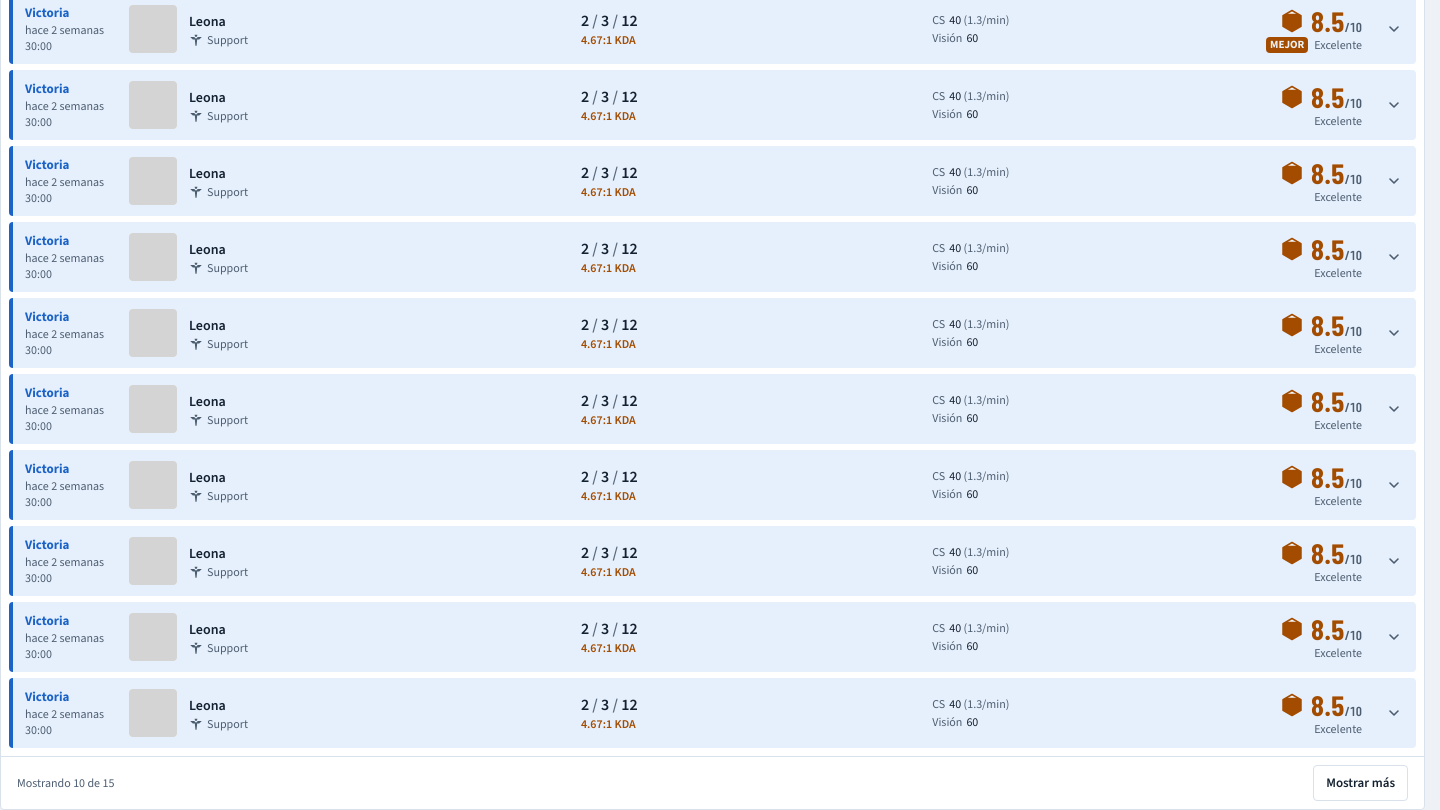
Scenario: MatchList › enseña 10 partidas y carga 10 más con Mostrar más
(page scrolled)
expect the text "Mostrando 10 de 15" is shown: met, box [17,775,114,791]
Click the button "Mostrar más": {"x": 1361, "y": 783} [1313,765,1408,801]
(page scrolled)
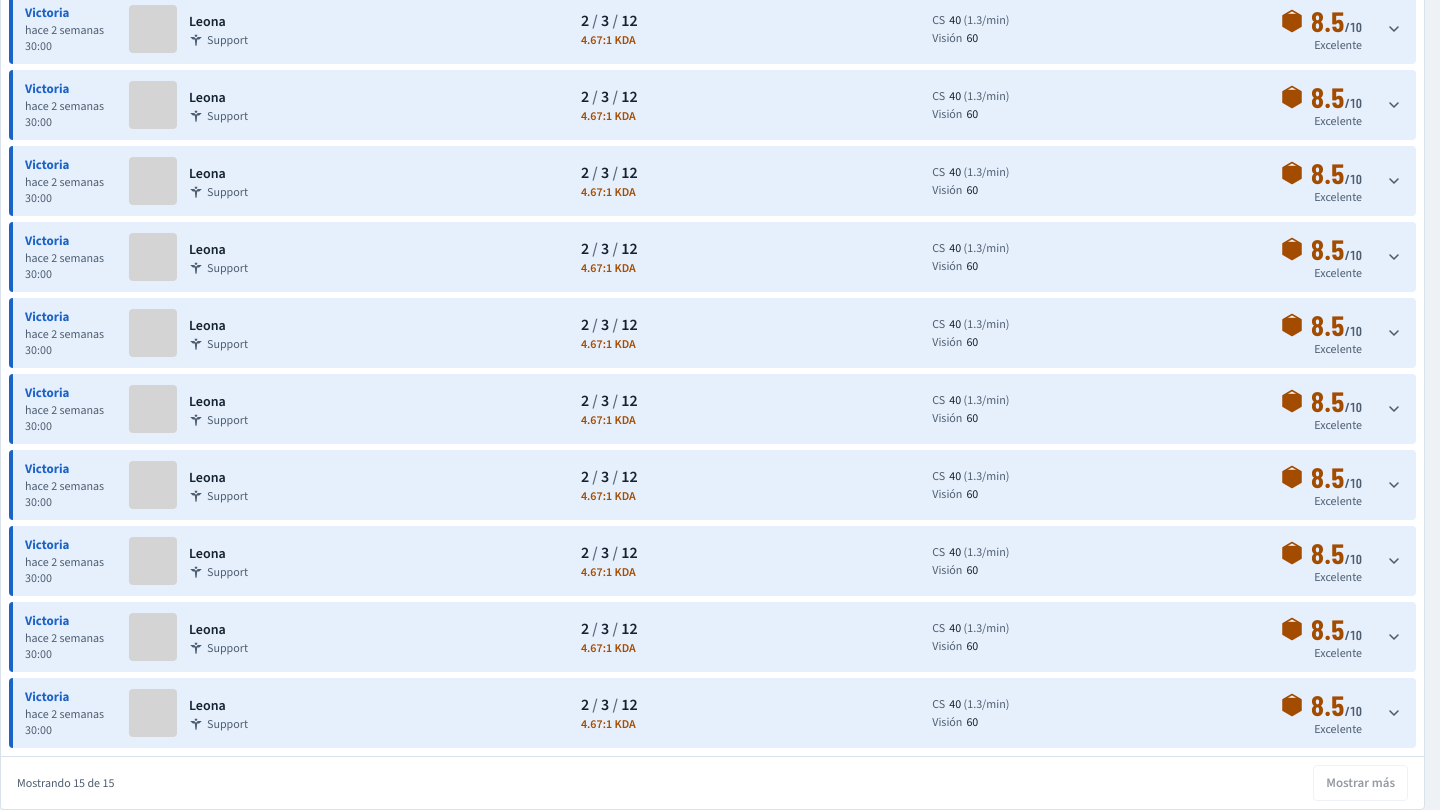
expect the text "Mostrando 15 de 15" is shown: met, box [17,775,114,791]
expect the button "Mostrar más" is disabled: met, box [1313,765,1408,801]
